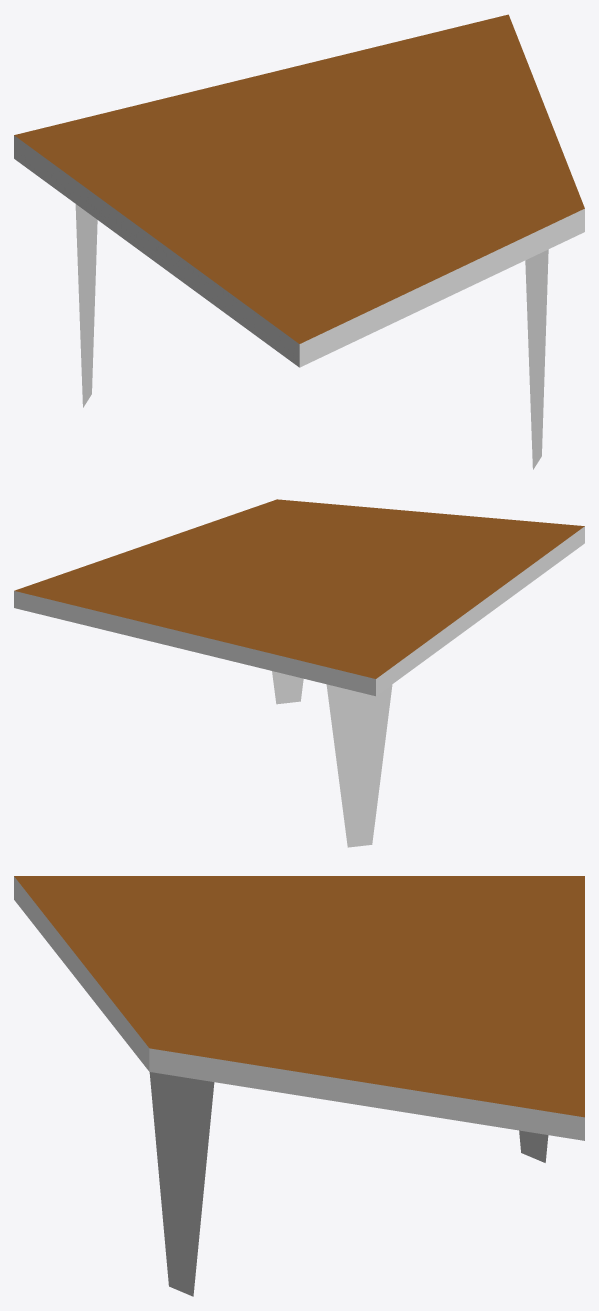
File: DockACornerA.fbx
3 views of the same model, one above another, from view 1: azimuth 30°, elevation 25°; view 2: azimuth 150°, elevation 25°; view 3: azimuth 270°, elevation 25° (orthographic). The views are drawn at different scales.
Parts seen in each view (by area): view 1: DockACornerA; view 2: DockACornerA; view 3: DockACornerA.
Boxes of the visible parts, x1,y1,x2,y2 form: DockACornerA: [14, 14, 584, 469]; DockACornerA: [14, 499, 584, 847]; DockACornerA: [14, 876, 584, 1296].
Size of the model in its own units: 550 by 275 by 550.
Materials: 1 (1 with a texture image).
